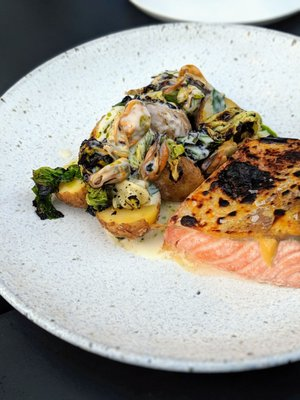curry: (31, 164, 84, 220)
